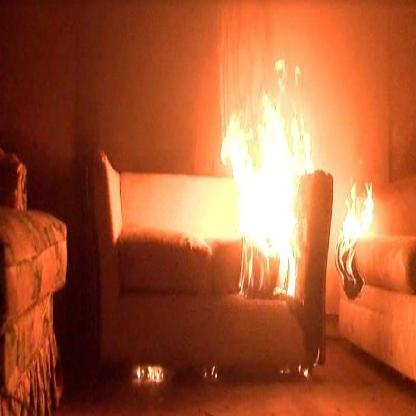fire: (211, 42, 325, 316), (339, 160, 372, 291)
